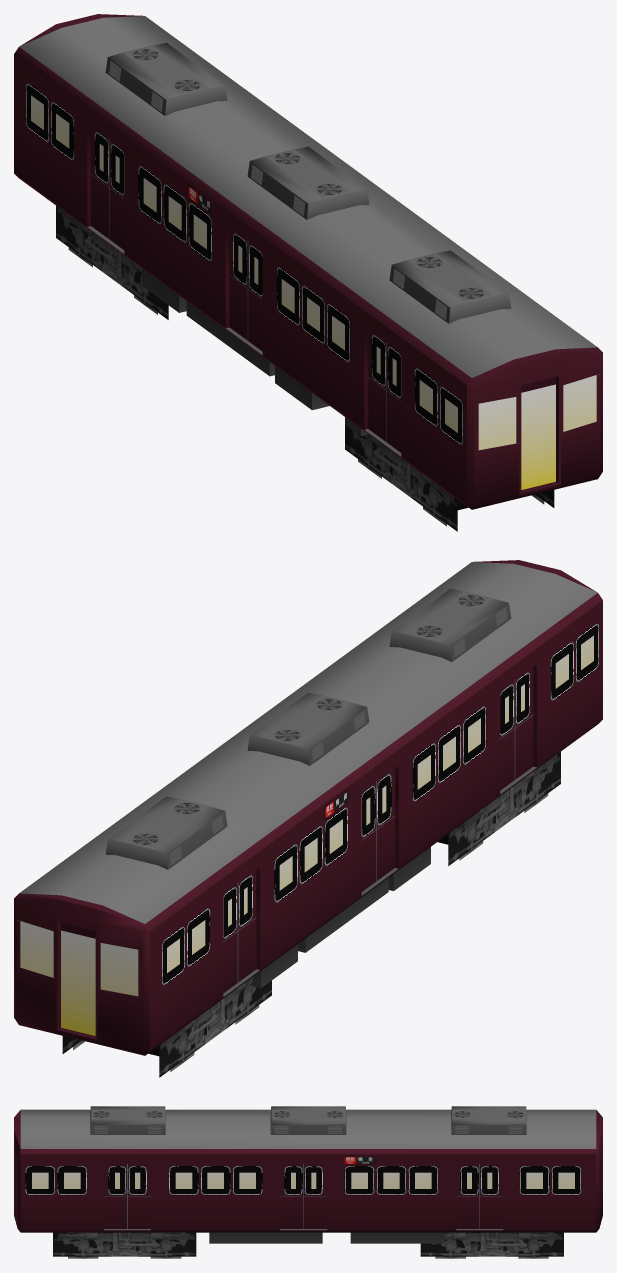
The picture shows the model from 3 angles, top to bottom: view 1: azimuth 30°, elevation 25°; view 2: azimuth 150°, elevation 25°; view 3: azimuth 270°, elevation 25°; orthographic projection. The views are drawn at different scales.
Visible parts, largest first — view 1: body; view 2: body; view 3: body.
Boxes of the visible parts, <box> form: body: <box>14,14,602,531</box>; body: <box>14,560,602,1077</box>; body: <box>14,1106,602,1258</box>.
Bounding box in the file's own units: 6.57 × 9.3 × 38.46.
Materials: 9 (9 with a texture image).
